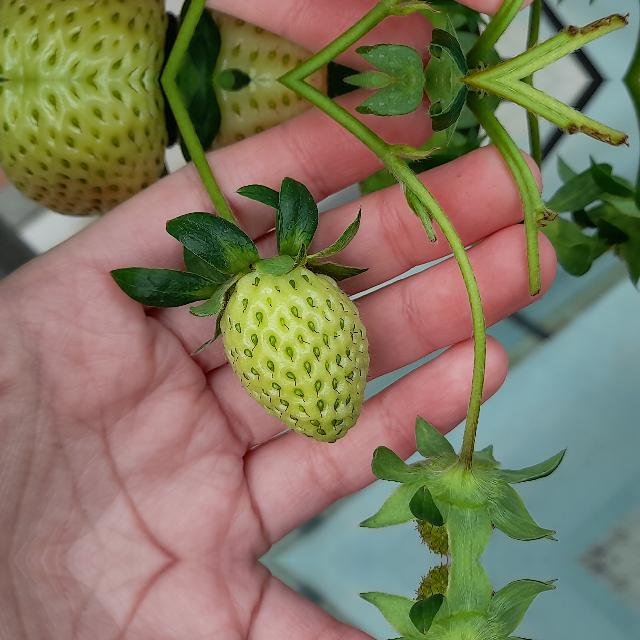Health_25: (220, 265, 370, 443)
